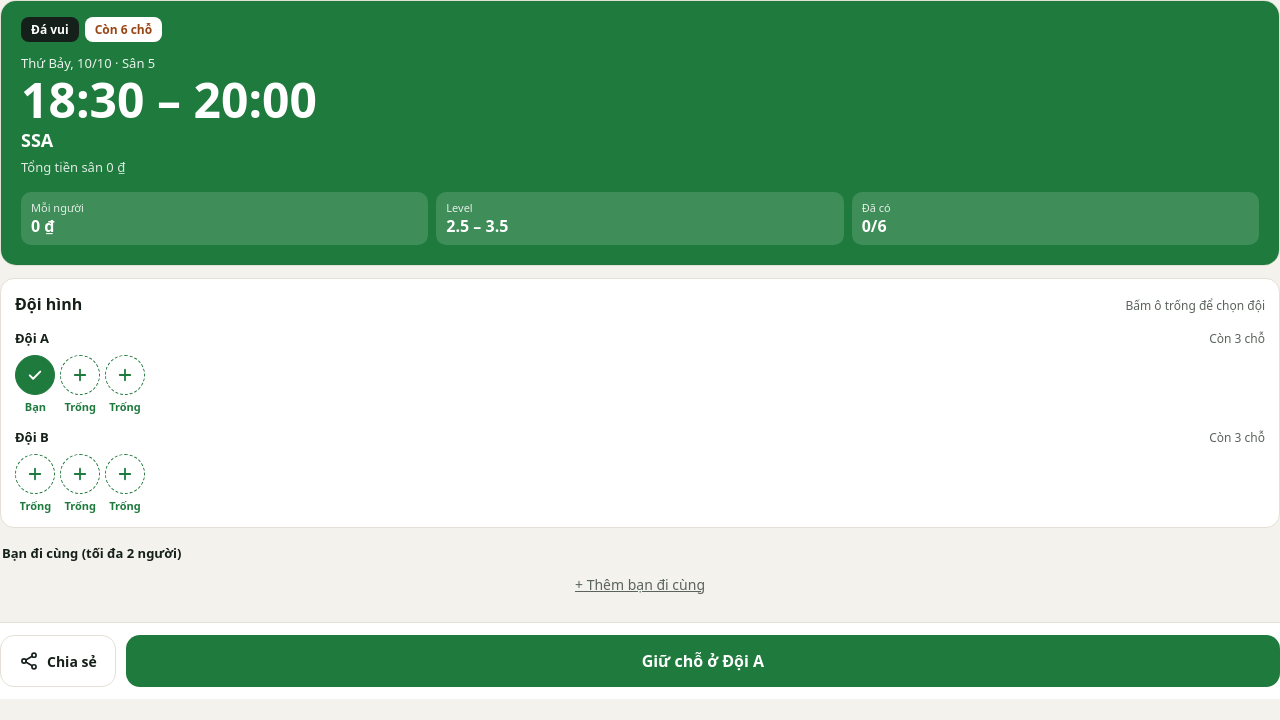
Scenario: TeamSlots › joins the chosen team with a guest and shows the updated roster
Click the button named "Vào Đội B" at (35, 474), box [15,454,55,494]
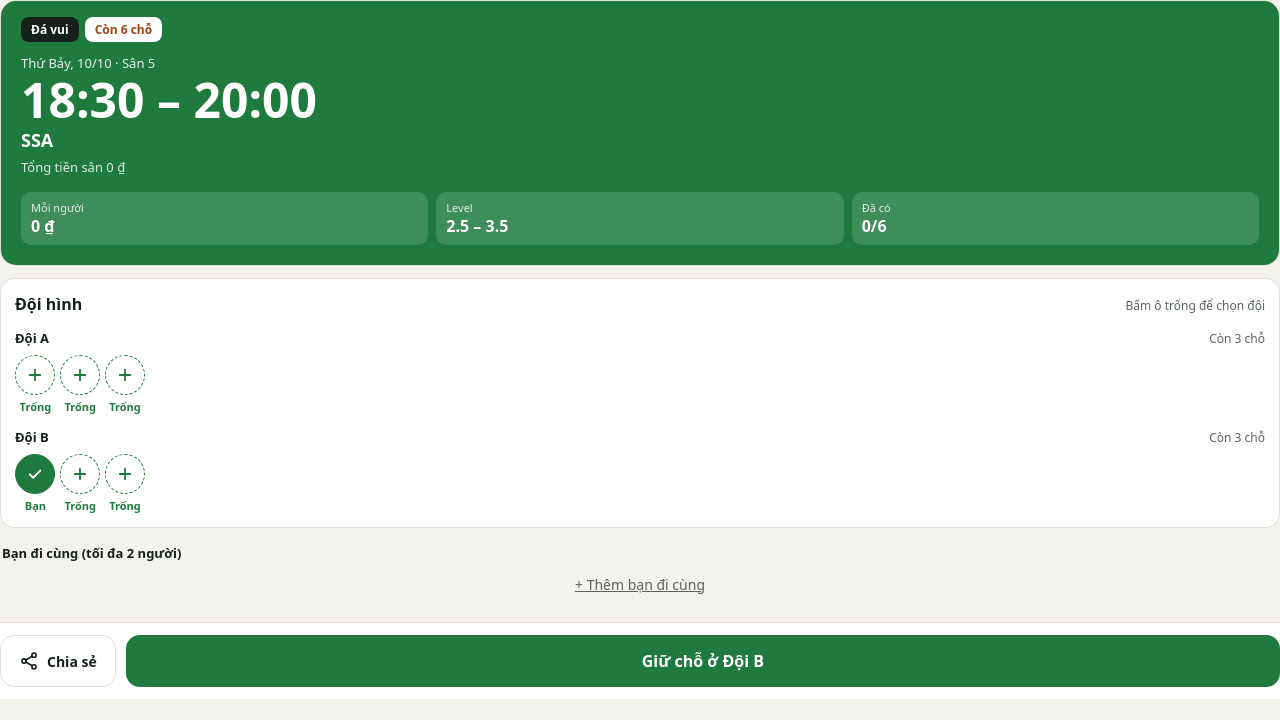
Click the button "+ Thêm bạn đi cùng" at (640, 584), box [0,562,1279,606]
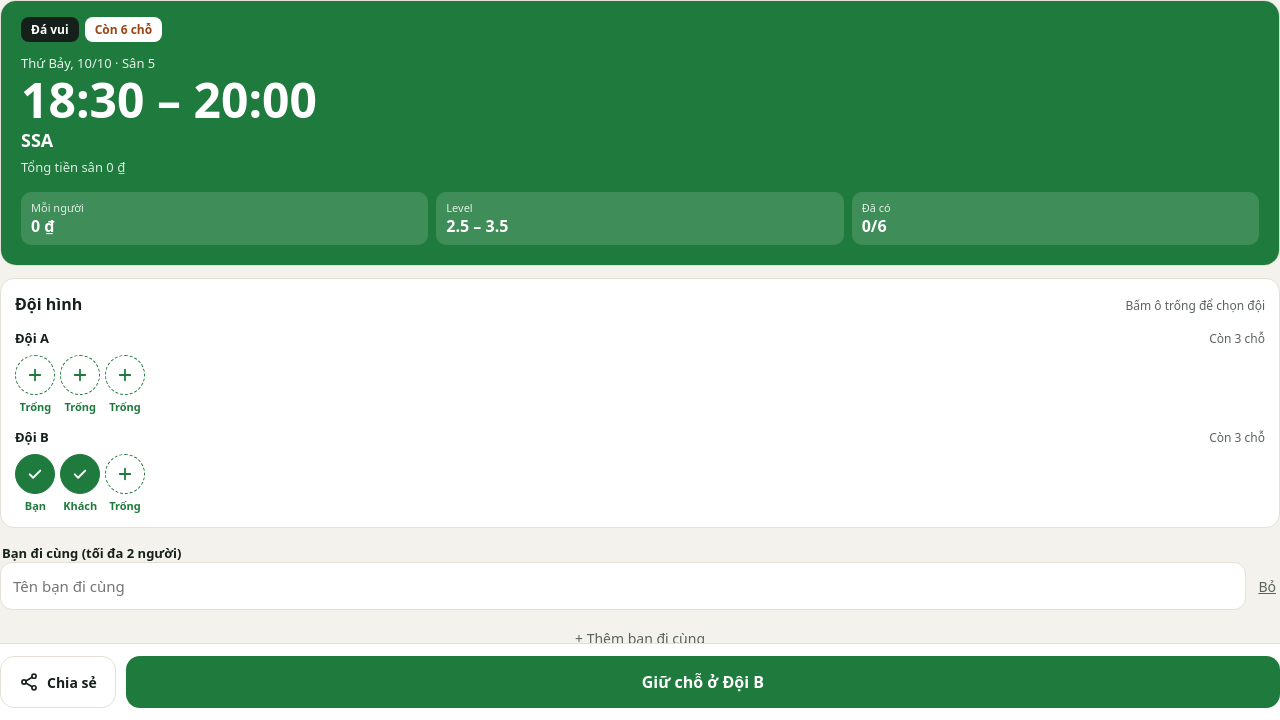
Type "An" into the field with placeholder "Tên bạn đi cùng" at (623, 586), box [0,562,1246,610]
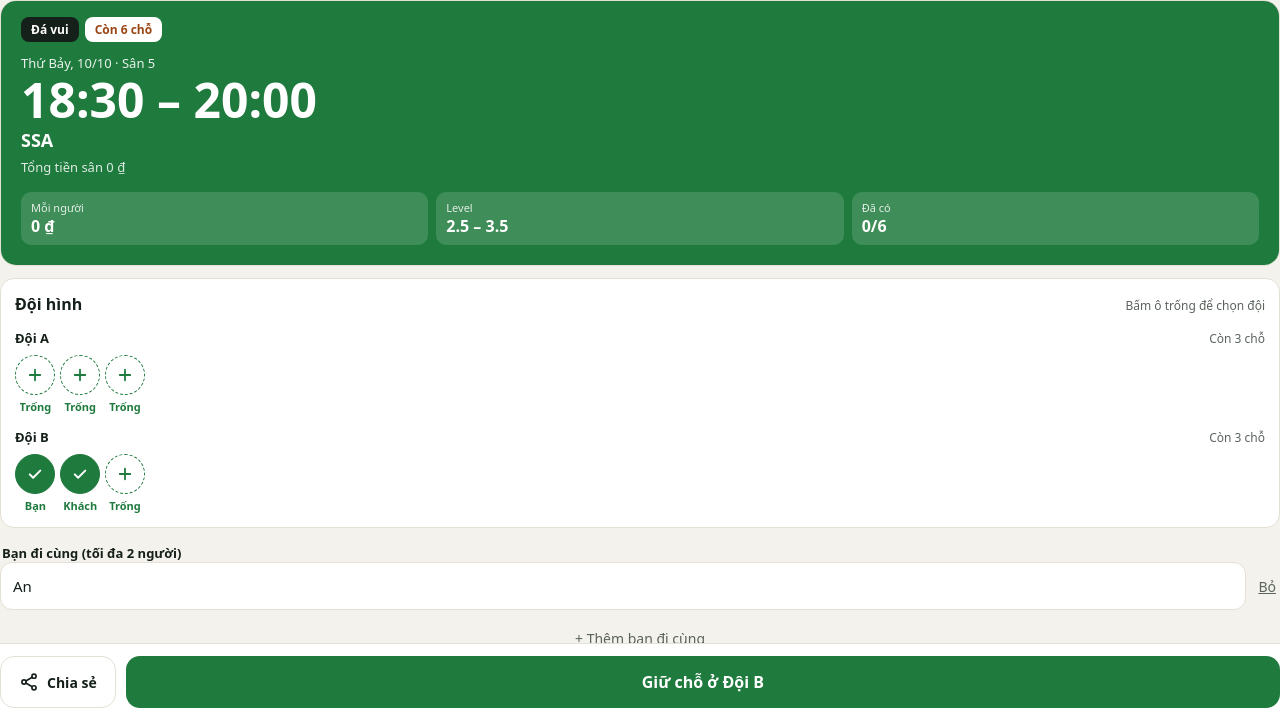
Click the button "Giữ chỗ ở Đội B" at (703, 682), box [126,656,1279,708]
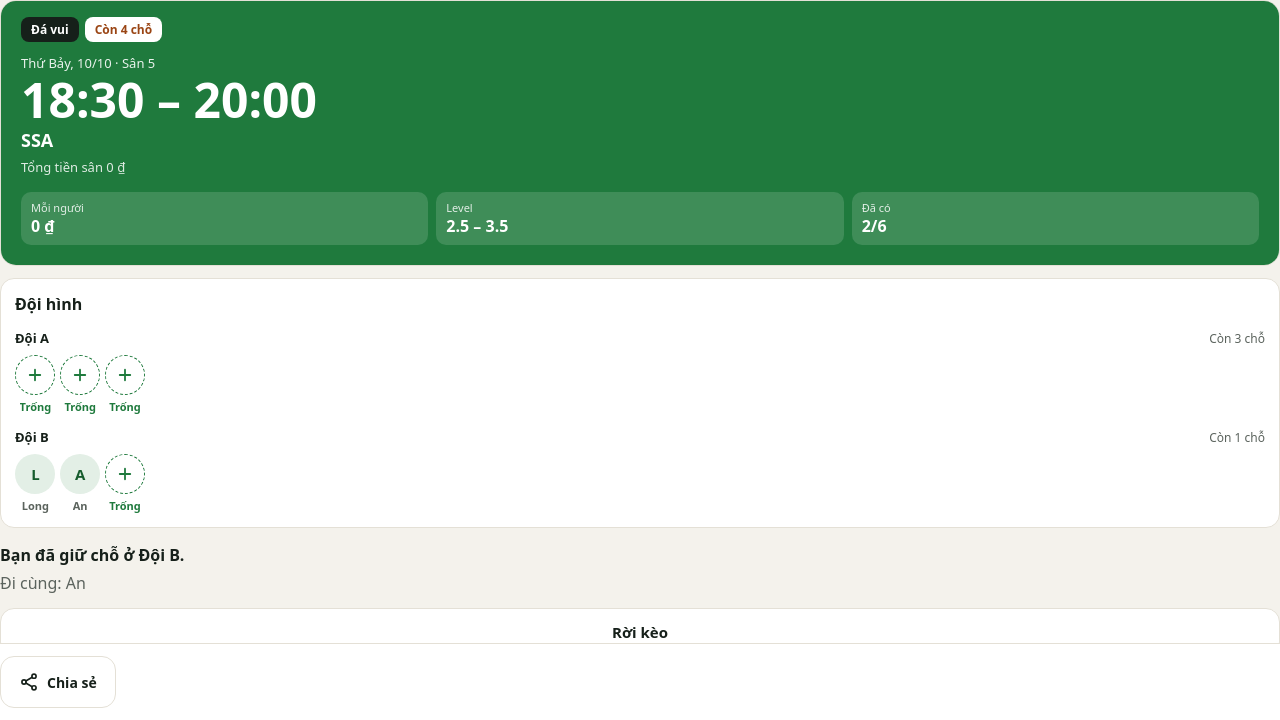
Now the text "Long" is shown, box [22,498,49,513]
